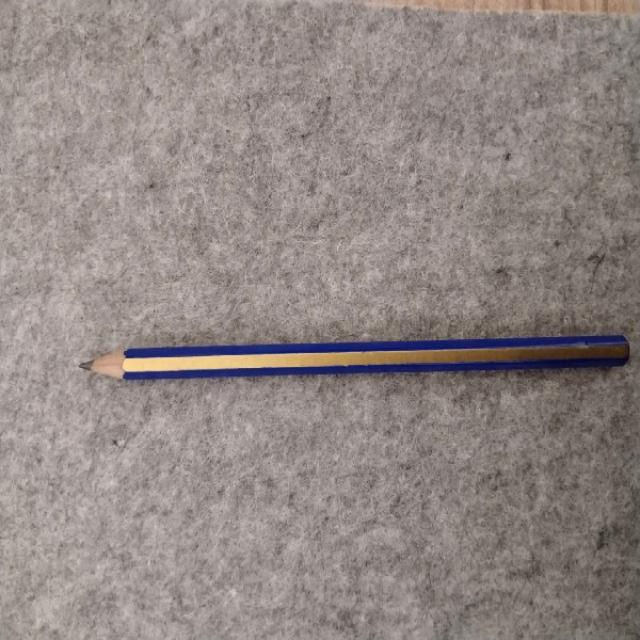pencil: (80, 335, 629, 379)
